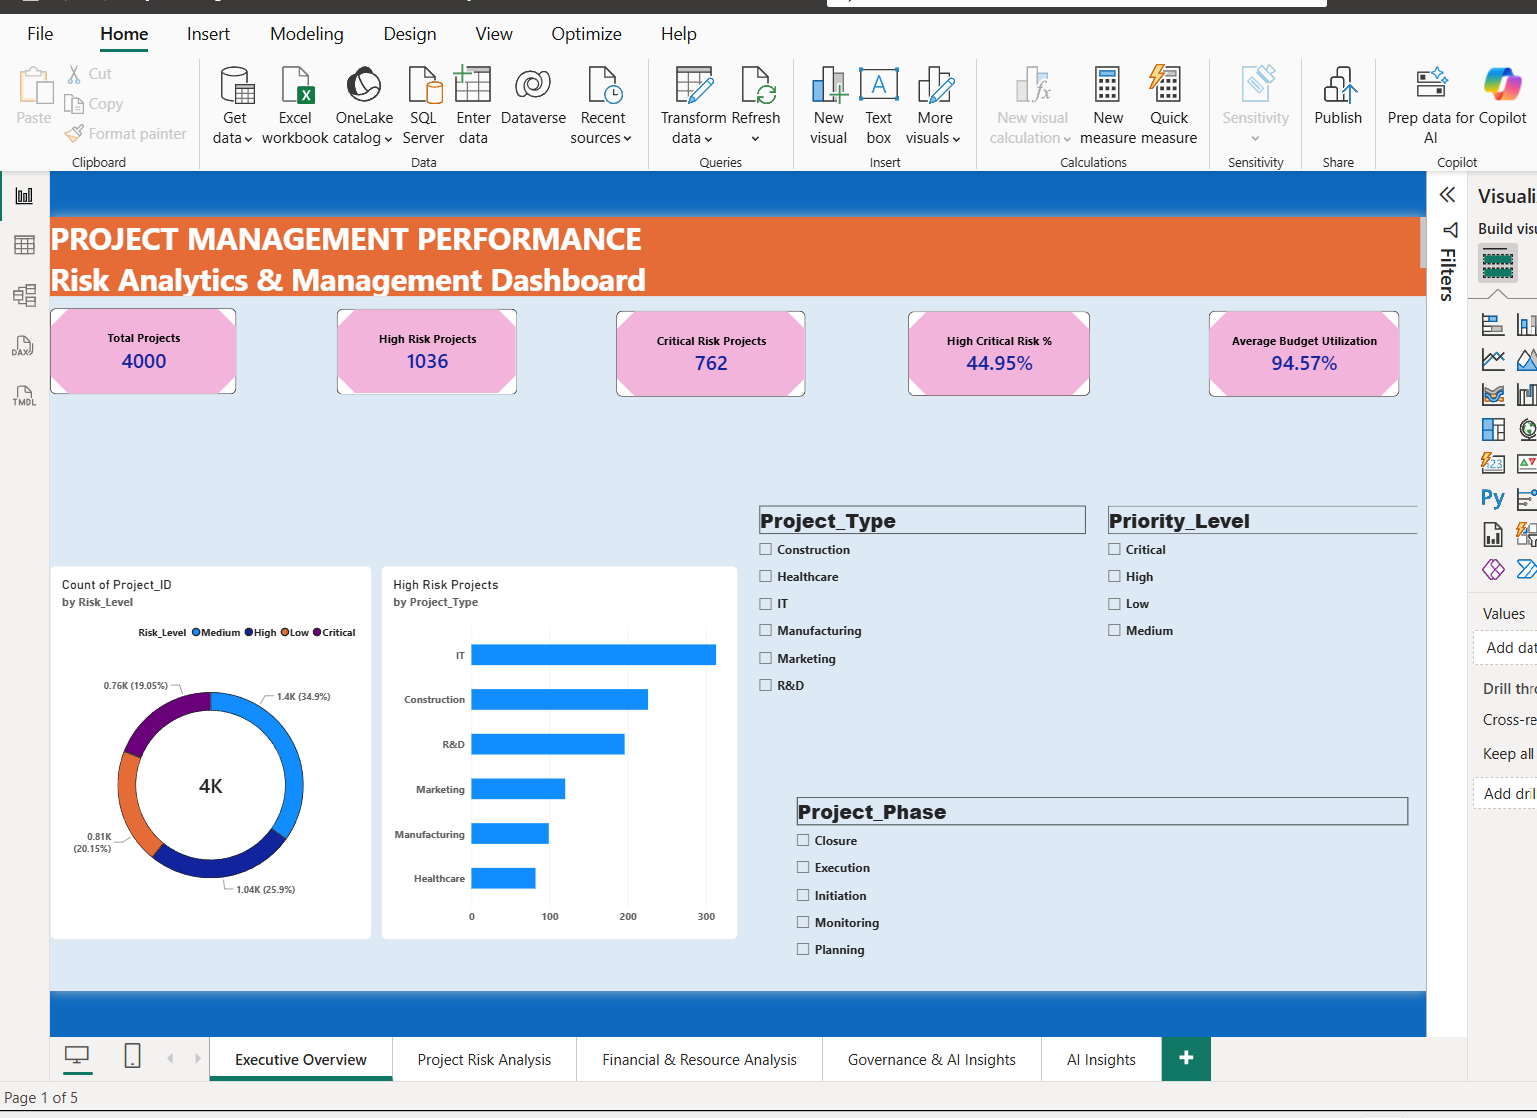

What the dashboard file says about the page in this screenshot:
{"tool":"powerbi","page":{"name":"Executive Overview","canvas":[1920,1080],"ordinal":0},"visuals":[{"type":"textbox","box":[0,0,1920.4,110],"z":0},{"type":"textbox","box":[0,467.5,1920,187],"z":1000},{"type":"textbox","box":[0,224,1920,187],"z":2000},{"type":"cardVisual","fields":{"Data":["Project_Risk_Data.Total Projects"]},"box":[0,128.2,260.4,120],"z":3000},{"type":"cardVisual","fields":{"Data":["Project_Risk_Data.High Risk Projects"]},"box":[398.7,128.2,252.3,120],"z":4000},{"type":"cardVisual","fields":{"Data":["Project_Risk_Data.Critical Risk Projects"]},"box":[789.3,130.2,264.8,120],"z":5000},{"type":"cardVisual","fields":{"Data":["Project_Risk_Data.High Critical Risk %"]},"box":[1196.2,130.2,256.7,120],"z":6000},{"type":"cardVisual","fields":{"Data":["Project_Risk_Data.Average Budget Utilization"]},"box":[1617.3,130.2,266.8,120],"z":7000},{"type":"donutChart","fields":{"Category":["Project_Risk_Data.Risk_Level"],"Y":["Count(Project_Risk_Data.Project_ID)"]},"box":[0,487.2,448.5,521.9],"z":8000},{"type":"slicer","fields":{"Values":["Project_Risk_Data.Project_Type"]},"box":[982.6,403.7,470.9,344.5],"z":9000},{"type":"slicer","fields":{"Values":["Project_Risk_Data.Project_Phase"]},"box":[1033.6,809.3,868.5,271.1],"z":10000},{"type":"slicer","fields":{"Values":["Project_Risk_Data.Priority_Level"]},"box":[1467.8,403.7,447.6,343.8],"z":11000},{"type":"clusteredBarChart","fields":{"Category":["Project_Risk_Data.Project_Type"],"Y":["Project_Risk_Data.High Risk Projects"]},"box":[462.8,487.2,497.4,521.9],"z":12000}]}

Visuals, with their boxes on the page's 1920x1080 design canvas (x1, y1, x2, y2). These are canvas units, not pixel positions in the 1537x1118 screenshot, which may show the page scaled, cropped or inside an application window:
textbox: [left=0, top=0, right=1920, bottom=110]
textbox: [left=0, top=468, right=1920, bottom=654]
textbox: [left=0, top=224, right=1920, bottom=411]
cardVisual - Project_Risk_Data.Total Projects: [left=0, top=128, right=260, bottom=248]
cardVisual - Project_Risk_Data.High Risk Projects: [left=399, top=128, right=651, bottom=248]
cardVisual - Project_Risk_Data.Critical Risk Projects: [left=789, top=130, right=1054, bottom=250]
cardVisual - Project_Risk_Data.High Critical Risk %: [left=1196, top=130, right=1453, bottom=250]
cardVisual - Project_Risk_Data.Average Budget Utilization: [left=1617, top=130, right=1884, bottom=250]
donutChart - Project_Risk_Data.Risk_Level x Count(Project_Risk_Data.Project_ID): [left=0, top=487, right=448, bottom=1009]
slicer - Project_Risk_Data.Project_Type: [left=983, top=404, right=1454, bottom=748]
slicer - Project_Risk_Data.Project_Phase: [left=1034, top=809, right=1902, bottom=1080]
slicer - Project_Risk_Data.Priority_Level: [left=1468, top=404, right=1915, bottom=748]
clusteredBarChart - Project_Risk_Data.Project_Type x Project_Risk_Data.High Risk Projects: [left=463, top=487, right=960, bottom=1009]
